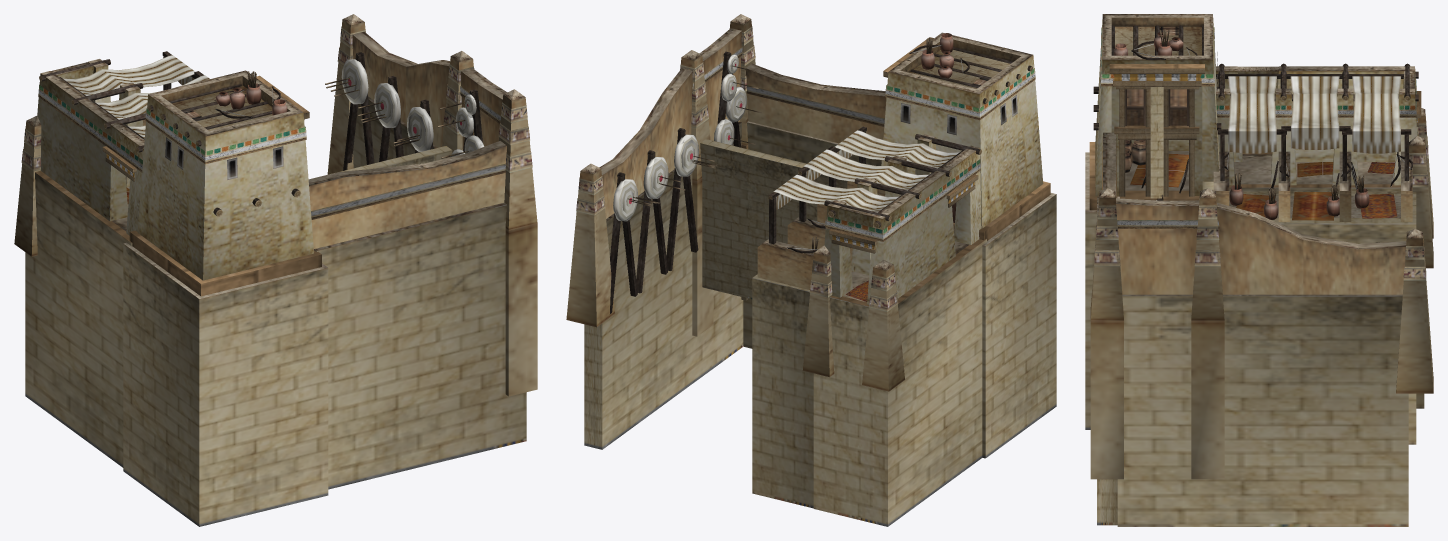
The model's file is s_ptolemies_range.glb.
The picture shows the model from 3 angles, left to right: view 1: azimuth 30°, elevation 25°; view 2: azimuth 150°, elevation 25°; view 3: azimuth 270°, elevation 25°; orthographic projection. The views are drawn at different scales.
Visible parts, largest first — view 1: s_ptolemies_range_part0; view 2: s_ptolemies_range_part0; view 3: s_ptolemies_range_part0.
Boxes of the visible parts, x1,y1,x2,y2 form: s_ptolemies_range_part0: [14, 14, 537, 526]; s_ptolemies_range_part0: [566, 14, 1056, 526]; s_ptolemies_range_part0: [1085, 14, 1433, 526].
Size of the model in its own units: 3.8 by 4.25 by 3.47.
1 material, 1 textured.
